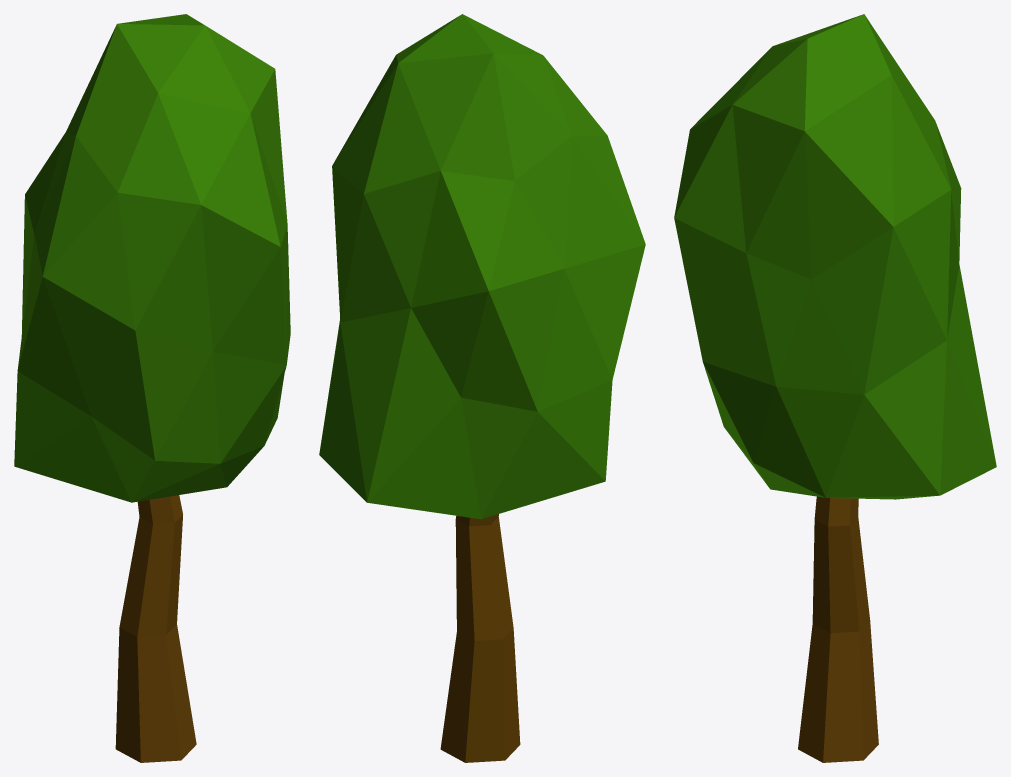
File: tree2.fbx
The picture shows the model from 3 angles, left to right: view 1: azimuth 30°, elevation 25°; view 2: azimuth 150°, elevation 25°; view 3: azimuth 270°, elevation 25°; orthographic projection.
Visible parts, largest first — view 1: Tree2, treeTrunk; view 2: Tree2, treeTrunk; view 3: Tree2, treeTrunk.
Boxes of the visible parts, x1,y1,x2,y2 form: Tree2: (14,14,290,502); treeTrunk: (115,495,196,762); Tree2: (319,14,645,519); treeTrunk: (440,514,520,762); Tree2: (674,14,996,499); treeTrunk: (798,496,878,762).
Size of the model in its own units: 4.59 by 11.79 by 4.76.
